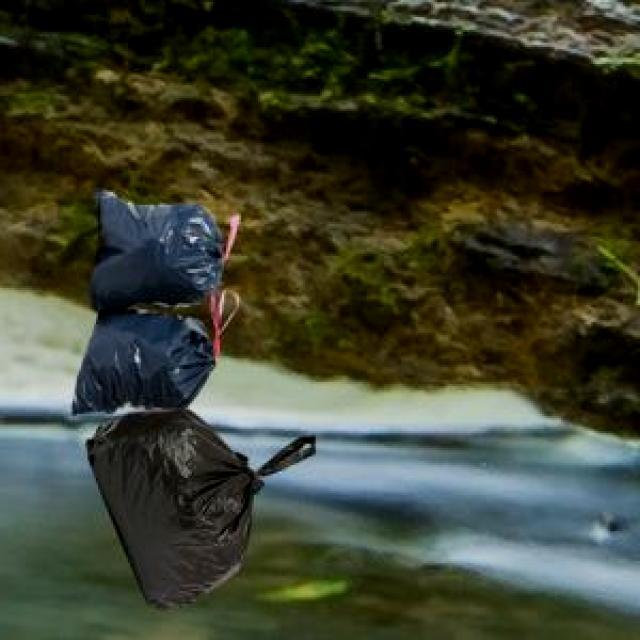Trashbag: (84, 407, 322, 615), (67, 303, 216, 426), (86, 190, 225, 320)
